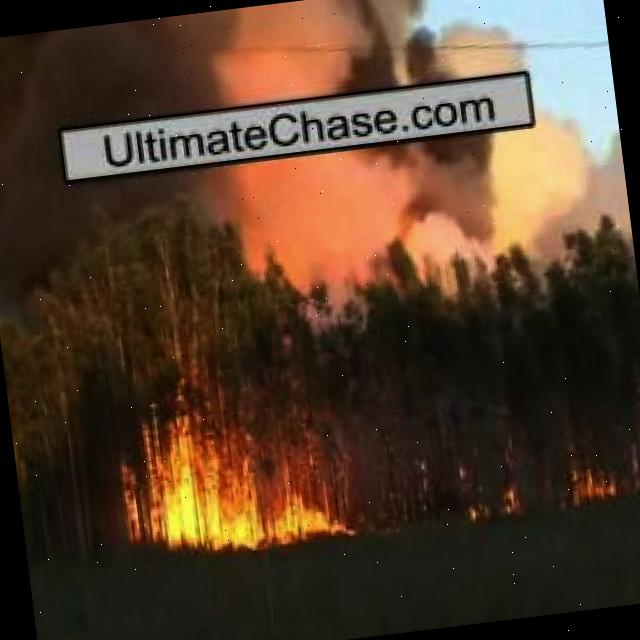fire: (120, 407, 350, 561), (566, 456, 630, 508), (468, 479, 522, 522)
